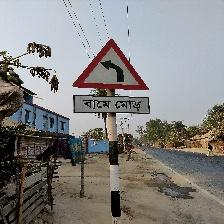Left-Turn: (71, 40, 150, 118)
